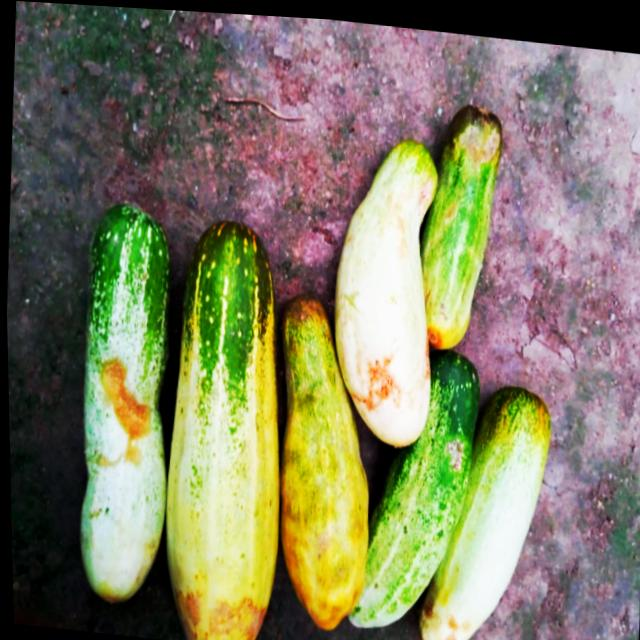Belly-Rot: (86, 343, 160, 477), (163, 579, 268, 640), (347, 342, 407, 414), (378, 175, 430, 249), (413, 582, 474, 640), (457, 117, 504, 164)
